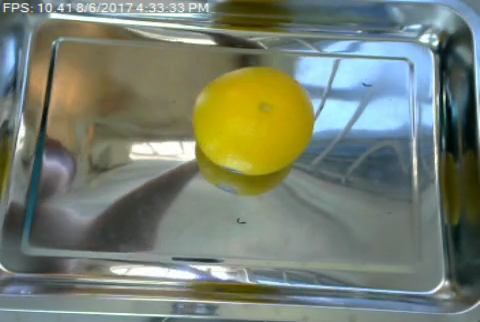Orange: (192, 66, 316, 174)
